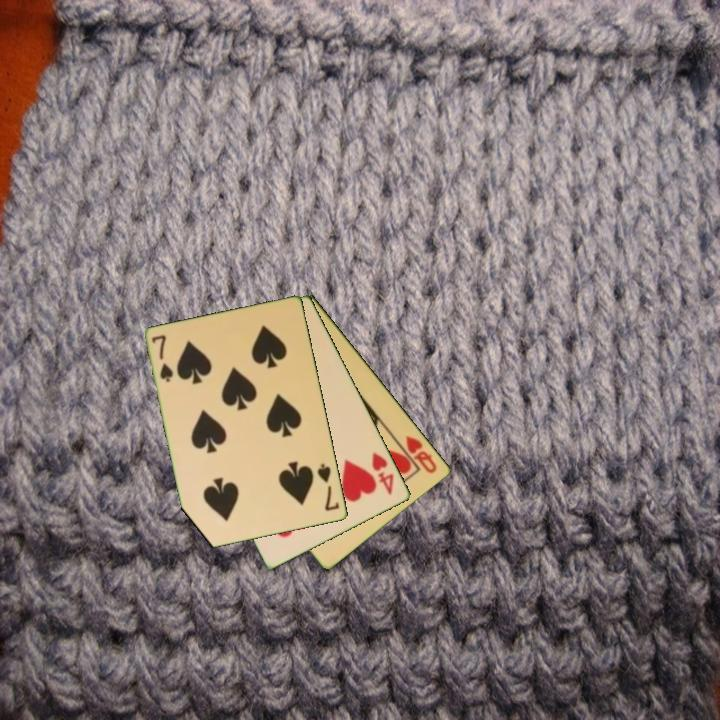4h: (369, 449, 397, 498)
7s: (314, 460, 342, 514), (149, 331, 176, 385)
Qh: (402, 432, 440, 477)
